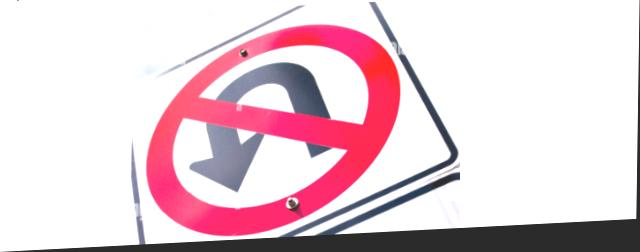not_u_turn_left: (136, 15, 407, 246)
